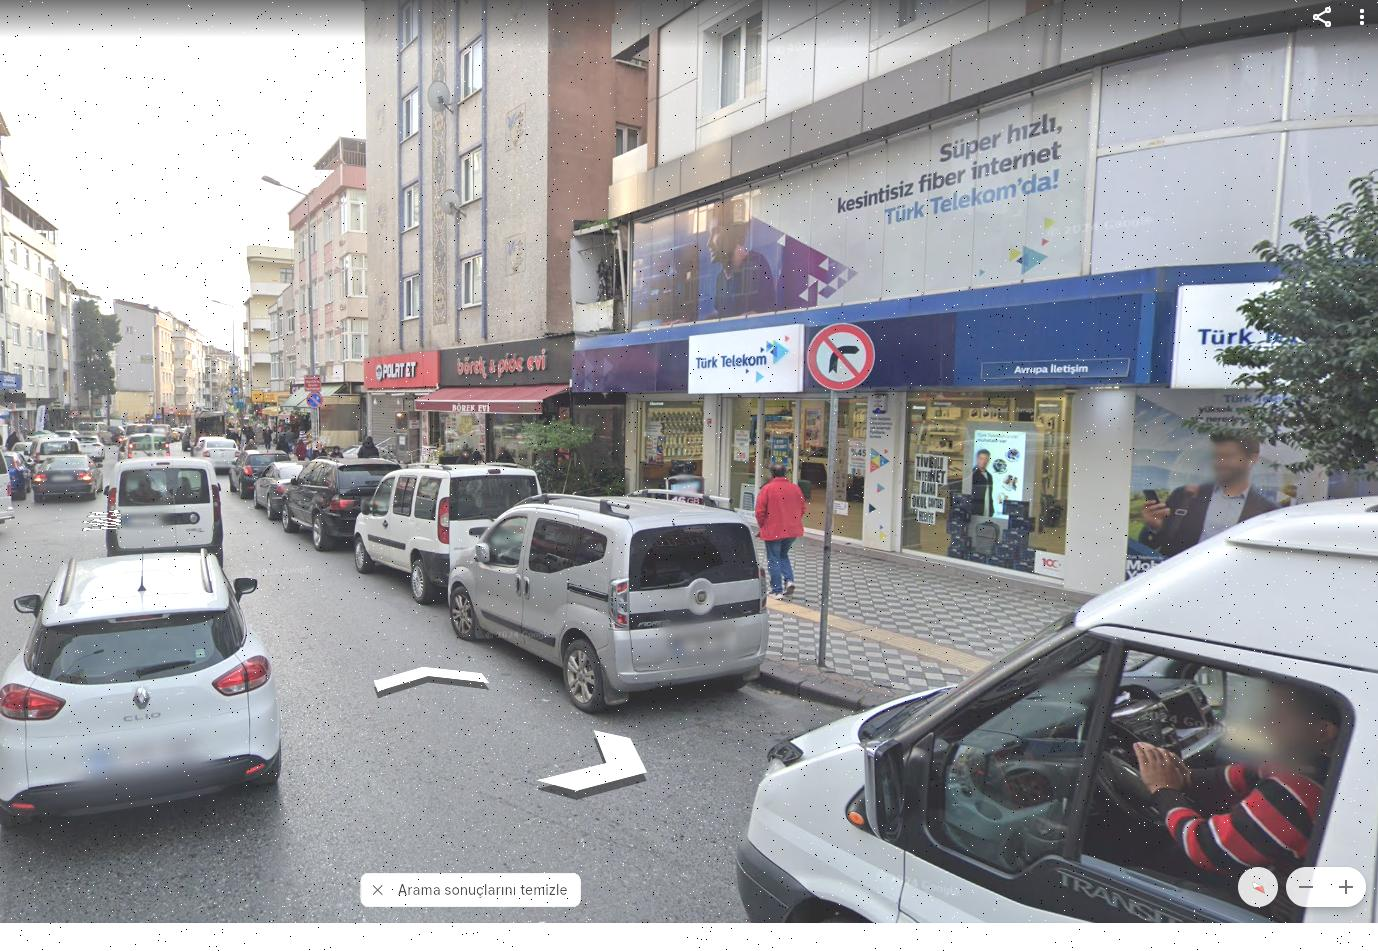rightturnsareforbidden: (803, 319, 880, 396)
